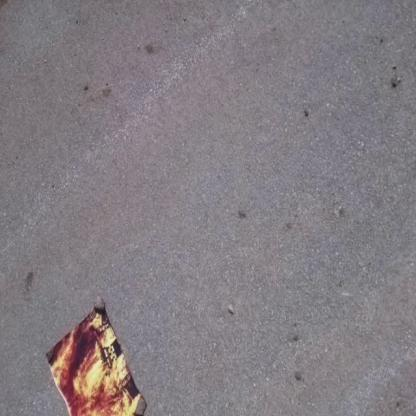fire-poster: (44, 296, 148, 415)
